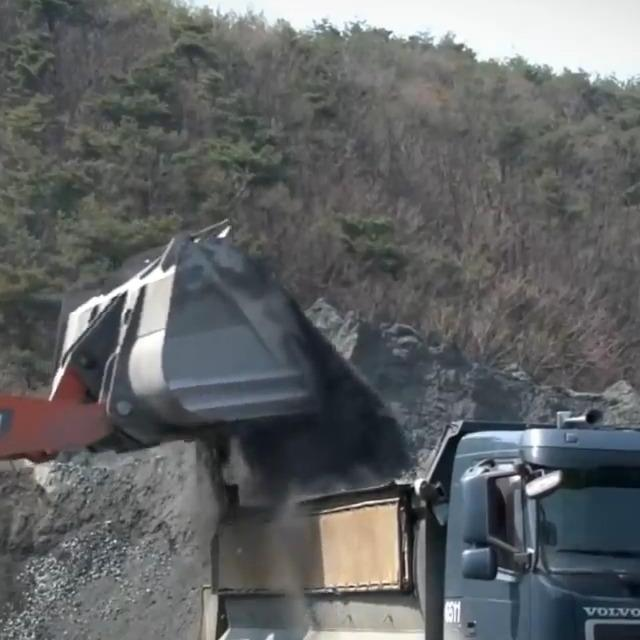dump truck: (206, 399, 640, 640)
wheel loader: (0, 217, 340, 640)
